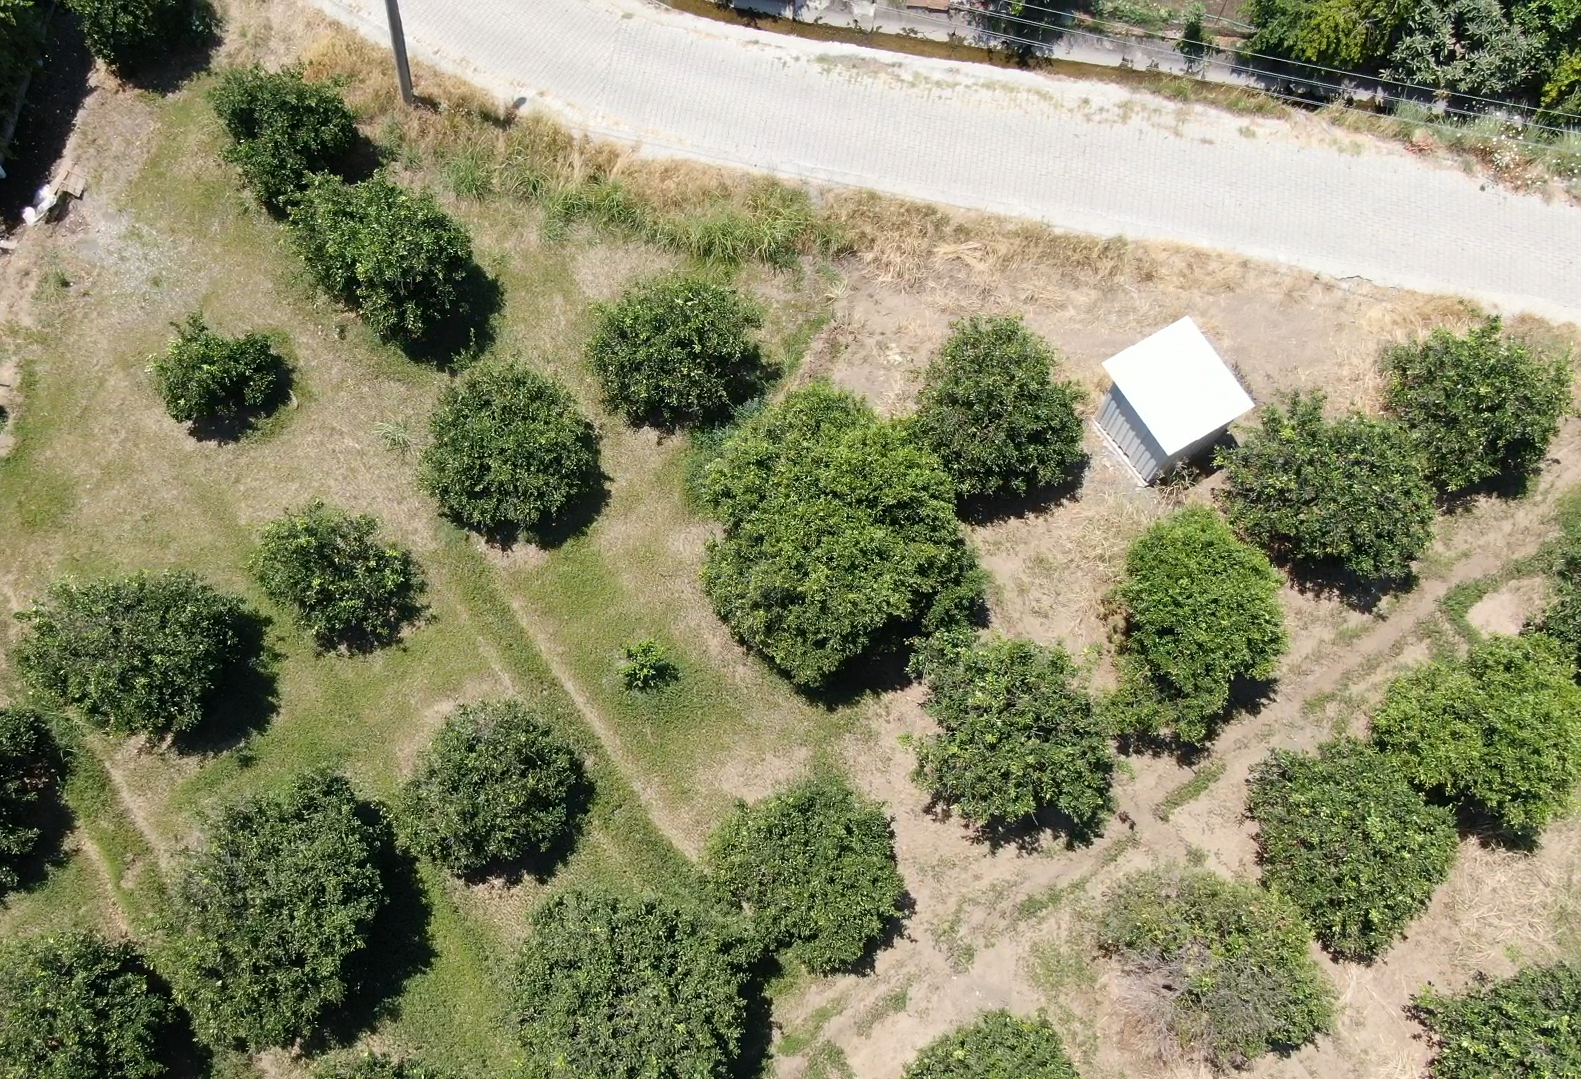TREE: (699, 378, 995, 688), (172, 761, 390, 1051), (1243, 735, 1461, 960), (1091, 868, 1340, 1062), (509, 892, 766, 1079), (1100, 503, 1288, 747), (1361, 632, 1581, 837), (1207, 384, 1434, 582), (902, 625, 1112, 828), (12, 568, 247, 737), (705, 779, 908, 972), (1382, 314, 1576, 494), (392, 698, 579, 880), (276, 171, 476, 339), (912, 312, 1090, 499), (408, 357, 593, 531), (2, 928, 175, 1079), (586, 276, 763, 418), (249, 497, 407, 640), (1403, 959, 1581, 1079), (208, 64, 350, 199), (1377, 1, 1531, 99), (153, 308, 279, 422), (903, 1006, 1079, 1079), (1237, 1, 1370, 65), (1, 708, 46, 889), (65, 1, 157, 62), (616, 639, 669, 695)
